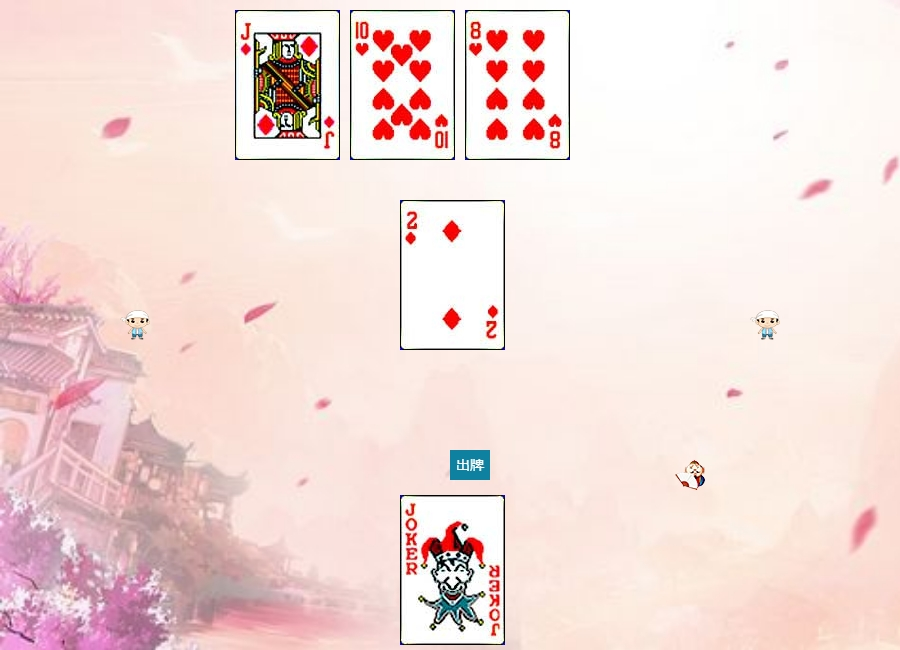10~3: (350, 10, 455, 160)
11~1: (235, 10, 340, 160)
15~1: (400, 200, 505, 350)
18~4: (400, 495, 505, 645)
8~3: (465, 10, 570, 160)
